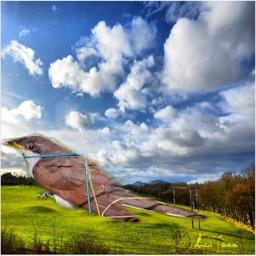Cuckoo: (0, 130, 213, 233)
